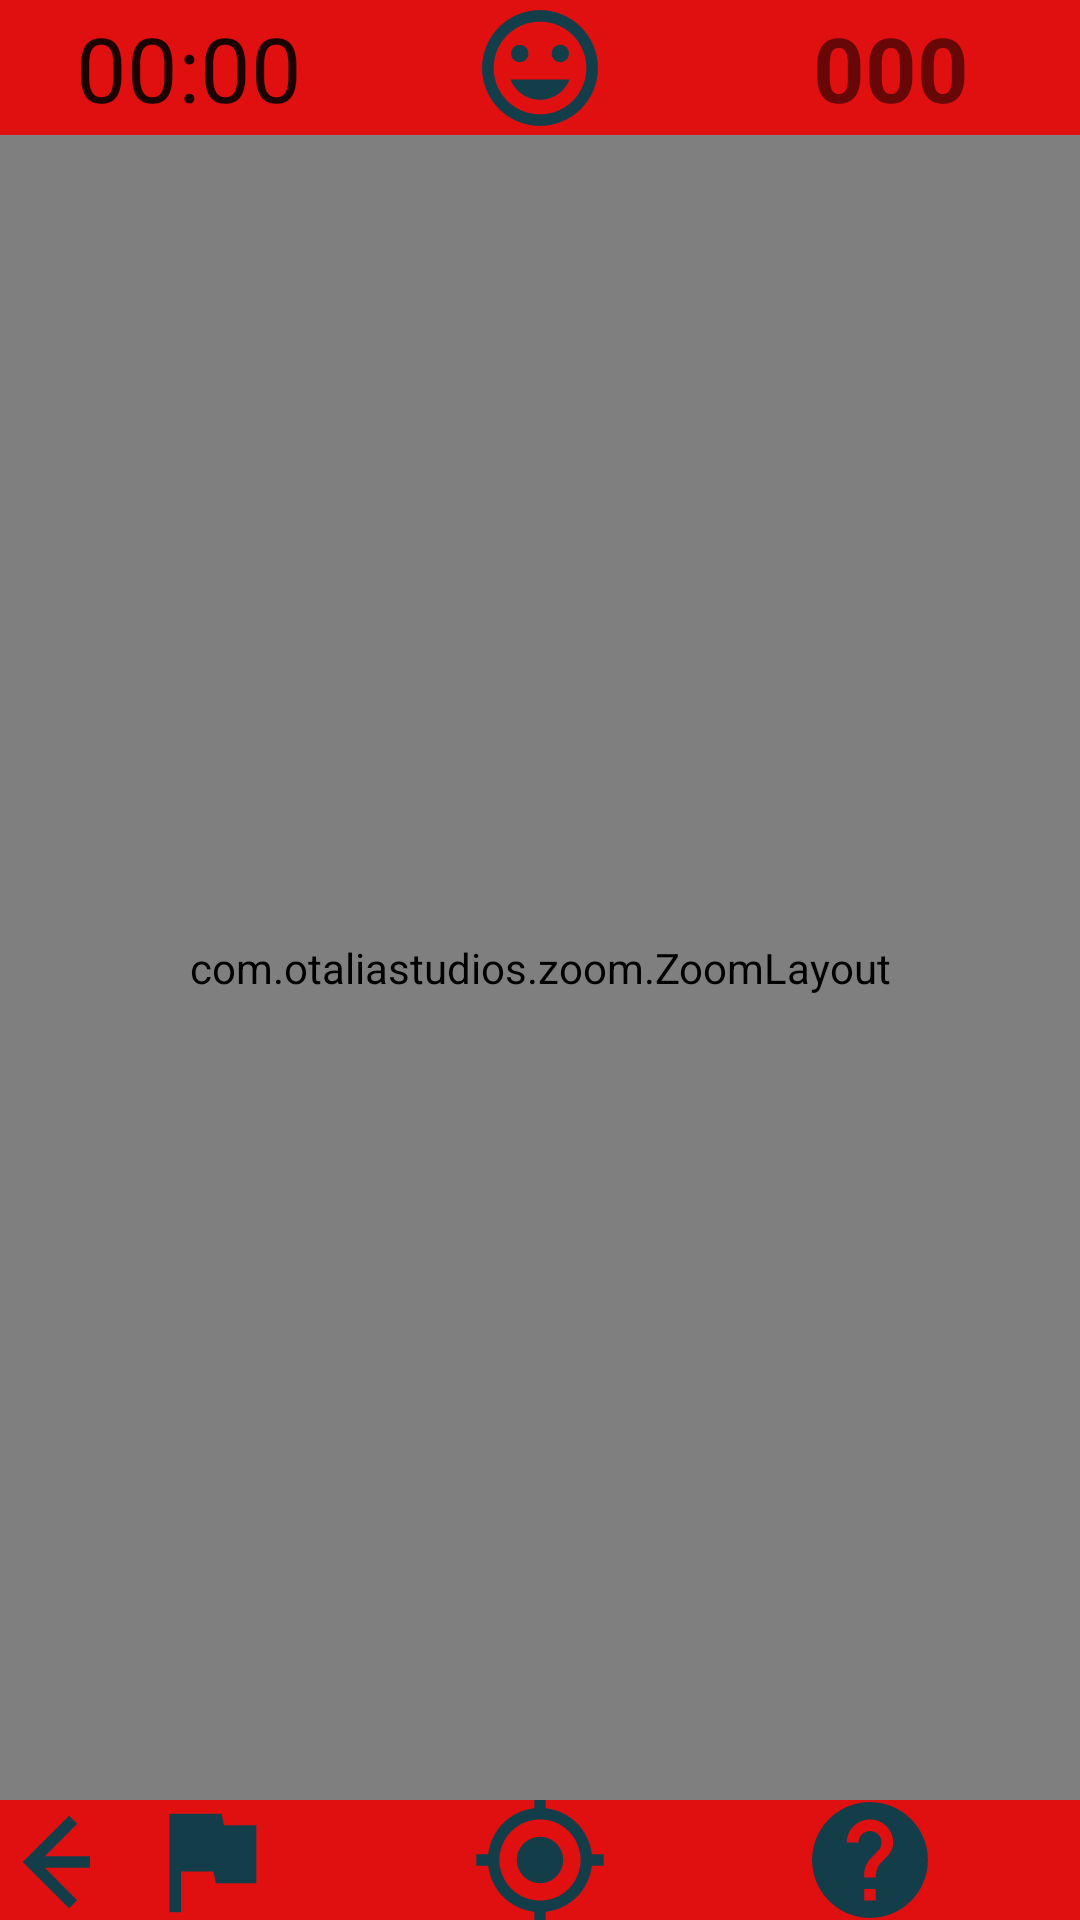

Screen size 1080x1920. Icon name, then its box in pixels as (x1, y1, x2, y2):
flag: (169, 1813, 257, 1913)
leave: (23, 1816, 90, 1908)
question: (812, 1802, 928, 1918)
smile: (482, 10, 598, 126)
